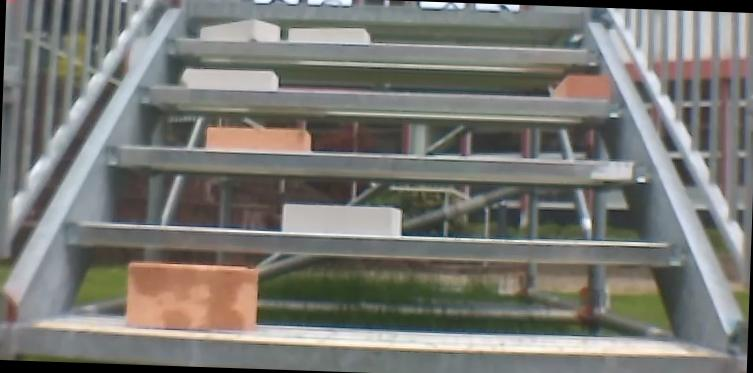brick: (119, 263, 260, 330), (281, 199, 407, 238), (203, 124, 314, 155), (178, 64, 279, 91), (195, 17, 286, 44), (543, 75, 613, 101), (287, 25, 370, 46)
edge: (11, 331, 736, 373), (58, 221, 689, 267), (99, 144, 649, 184), (134, 82, 628, 122), (163, 34, 601, 69), (181, 0, 585, 30)
